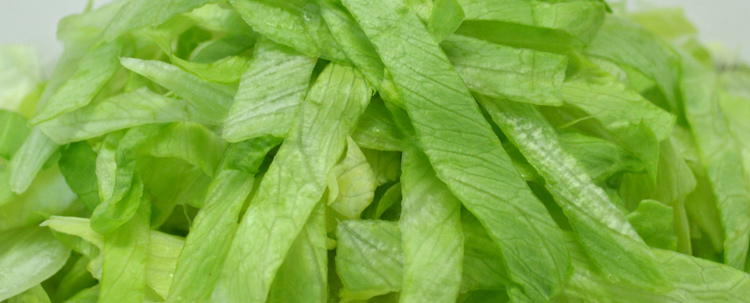chopped lettuce: (45, 1, 716, 299)
